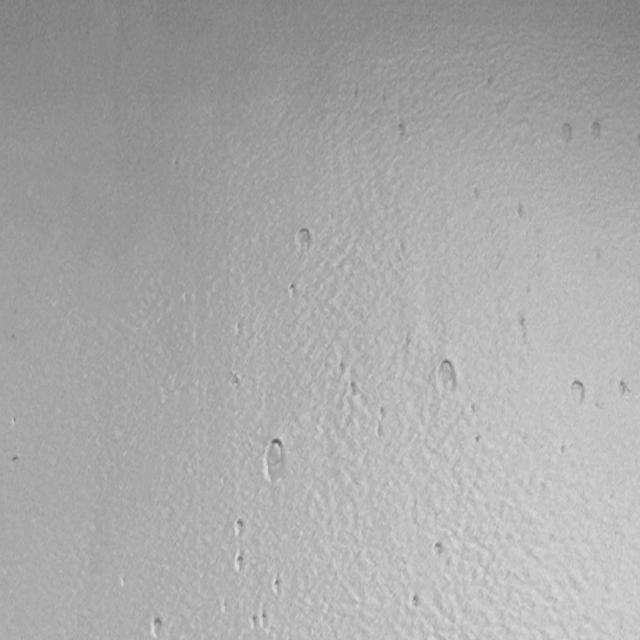pin holes: (256, 435, 290, 488), (434, 358, 461, 396), (568, 378, 588, 409), (293, 226, 315, 253), (556, 120, 575, 146), (148, 616, 166, 640), (392, 120, 410, 142), (586, 119, 602, 142), (612, 377, 630, 397), (253, 612, 270, 632), (344, 380, 359, 402), (231, 516, 245, 536), (231, 553, 245, 572), (468, 185, 481, 205), (406, 591, 420, 608), (431, 543, 444, 561), (270, 578, 282, 596), (514, 312, 526, 330), (557, 440, 569, 458), (374, 406, 387, 422), (466, 401, 479, 417), (512, 202, 524, 219), (8, 452, 22, 466), (286, 284, 298, 300), (249, 614, 260, 630), (632, 132, 640, 150), (472, 434, 482, 448), (377, 422, 383, 439)
